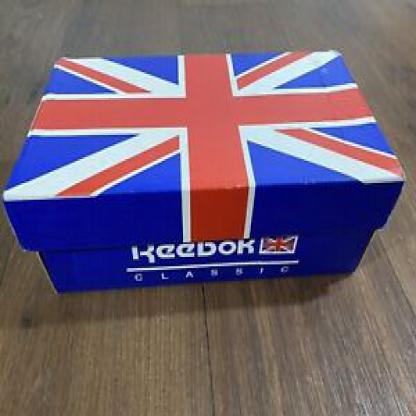box: (0, 44, 407, 294)
